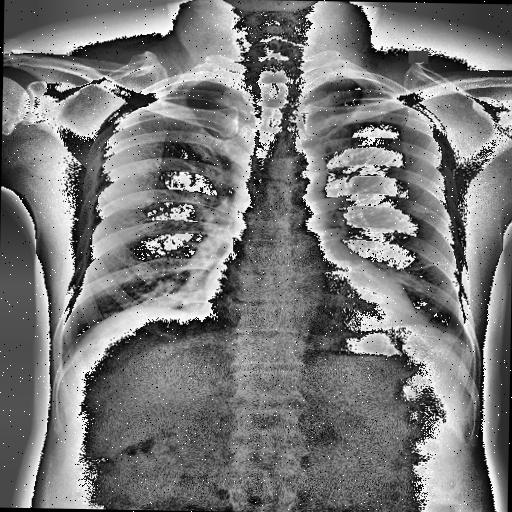13- Pulmonary fibrosis: (403, 258, 457, 271), (410, 259, 456, 272), (410, 262, 460, 270)
3- Cardiomegaly: (206, 253, 422, 325), (201, 288, 420, 328)
